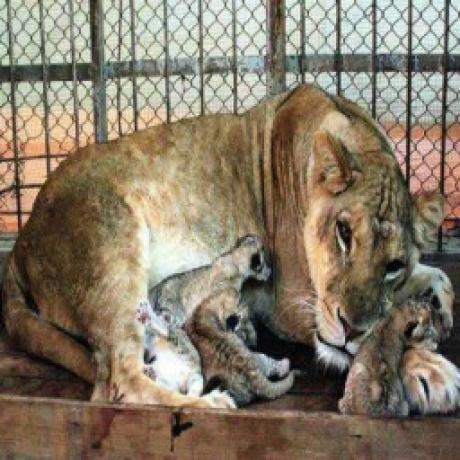Lion: (0, 79, 453, 404), (185, 285, 297, 411), (339, 296, 434, 429), (150, 231, 273, 327)
